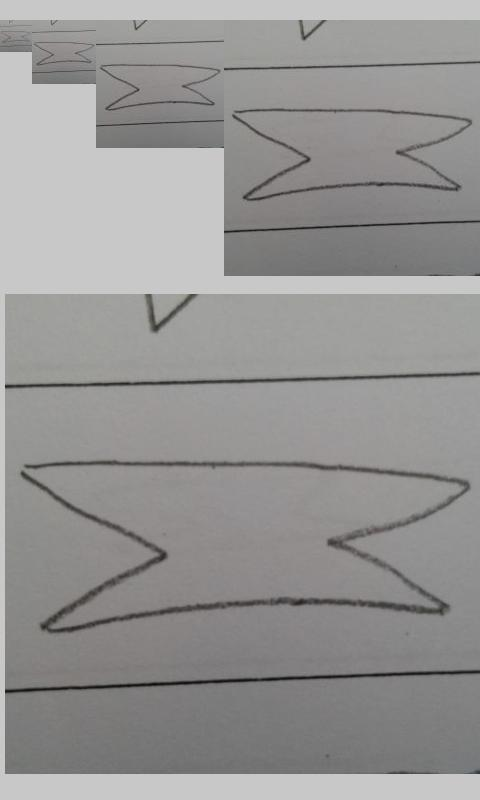edit_text: (15, 455, 469, 633), (231, 107, 473, 202), (99, 63, 222, 111), (34, 41, 94, 66), (1, 30, 31, 43)
